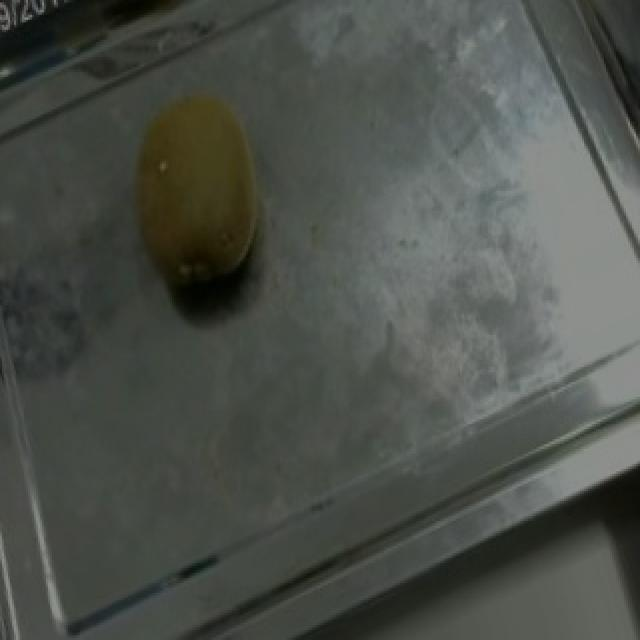Fruit: (90, 59, 302, 330)
